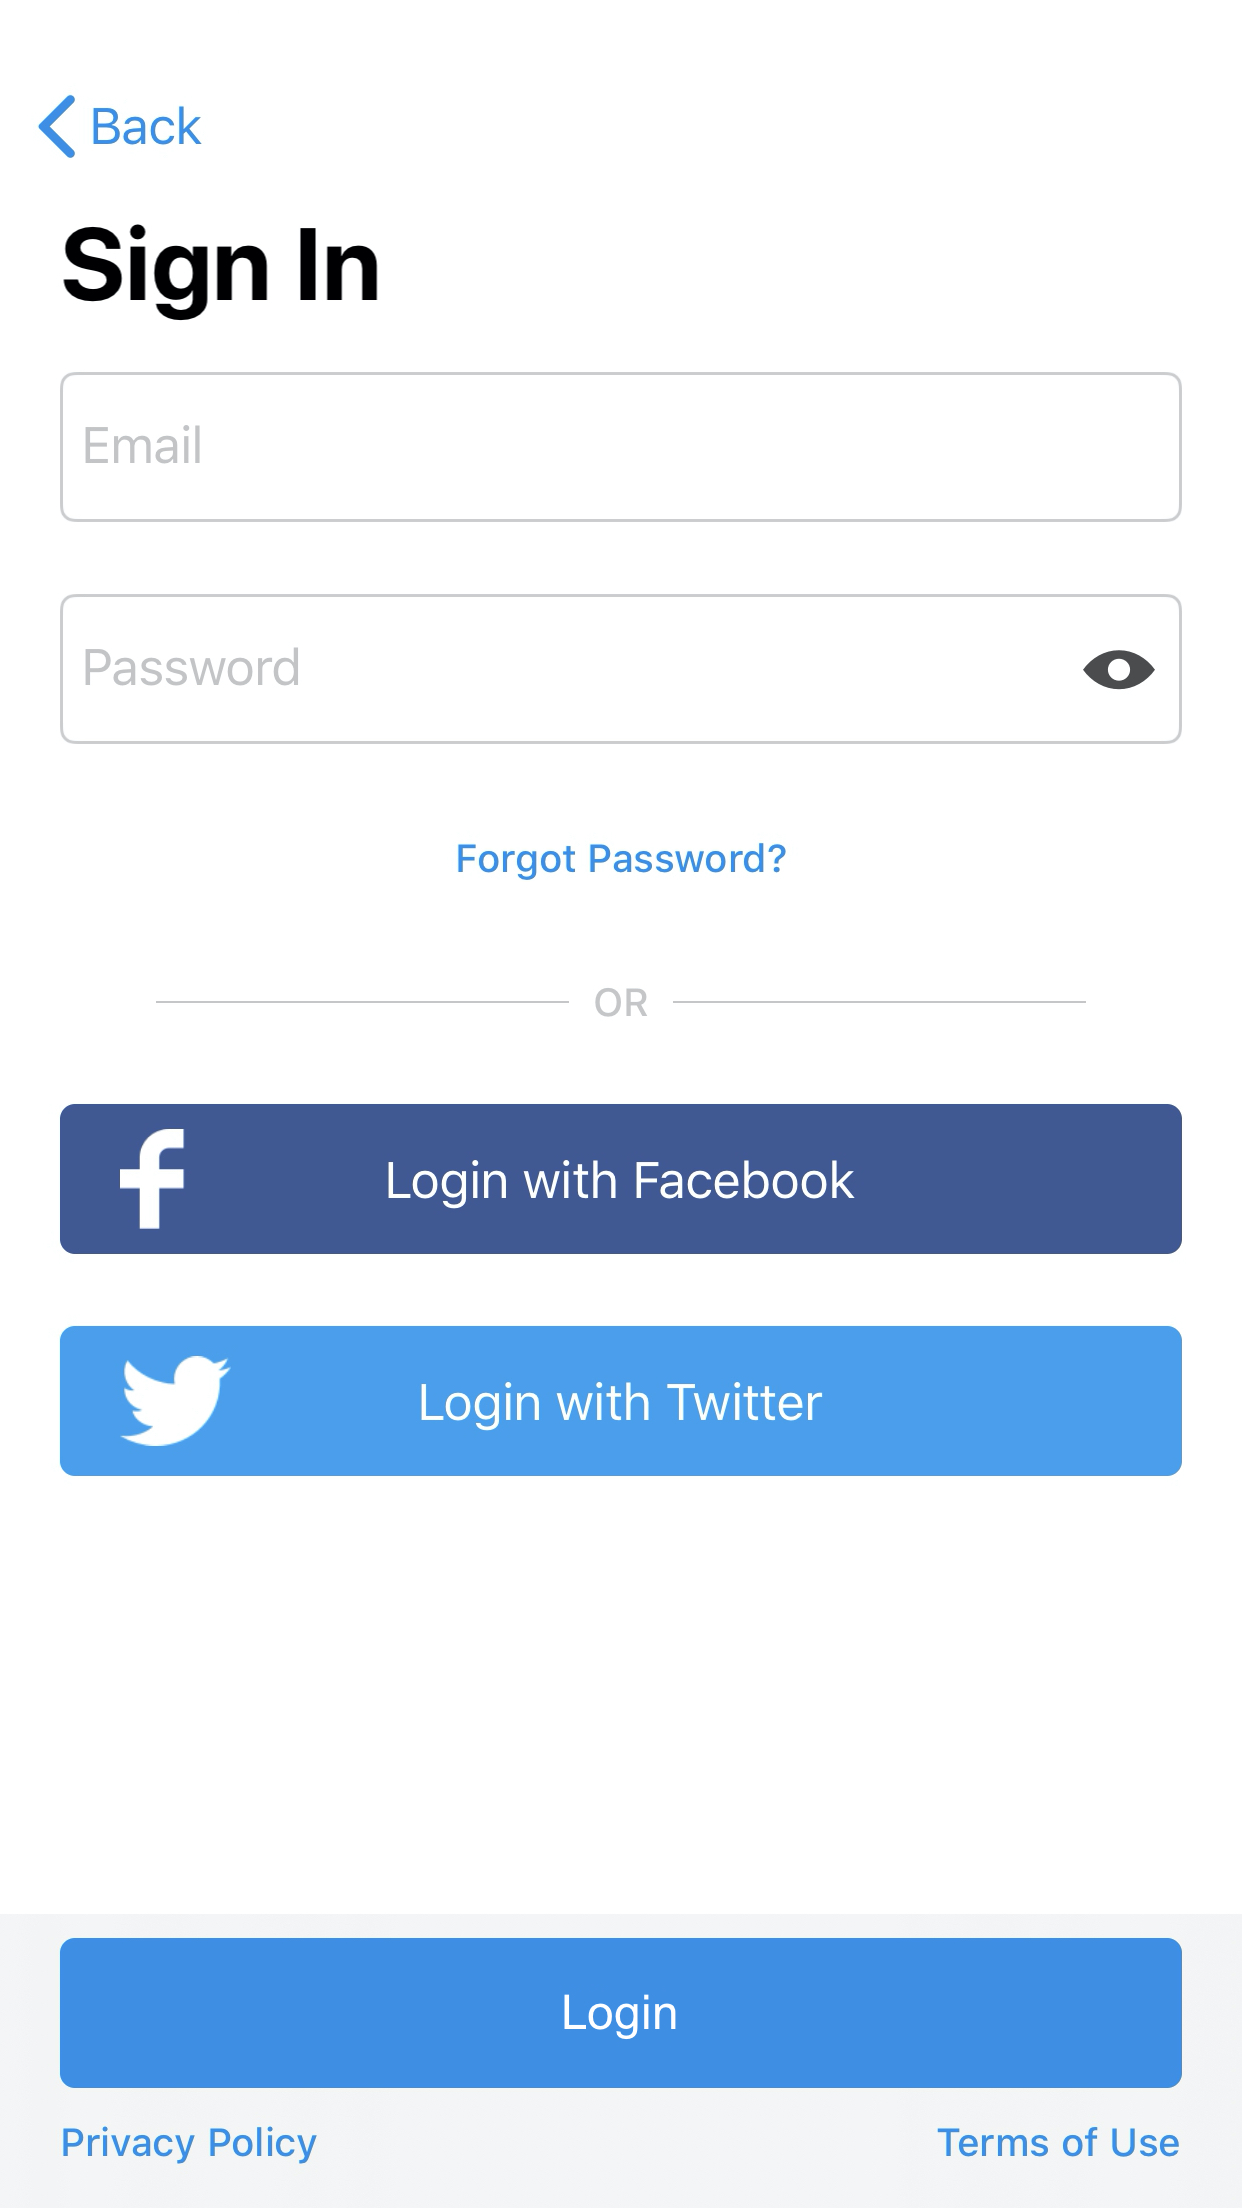EditText: (61, 372, 1181, 523), (61, 594, 1181, 745)
Icon: (1081, 651, 1156, 688), (39, 96, 76, 159)
Text: (64, 224, 378, 321), (458, 843, 786, 880), (64, 2125, 317, 2164), (85, 648, 299, 685), (937, 2128, 1178, 2156), (85, 425, 200, 466), (93, 106, 202, 146), (596, 989, 648, 1016)
TextButton: (61, 1937, 1181, 2088), (61, 1325, 1181, 1476), (61, 1104, 1181, 1254)
